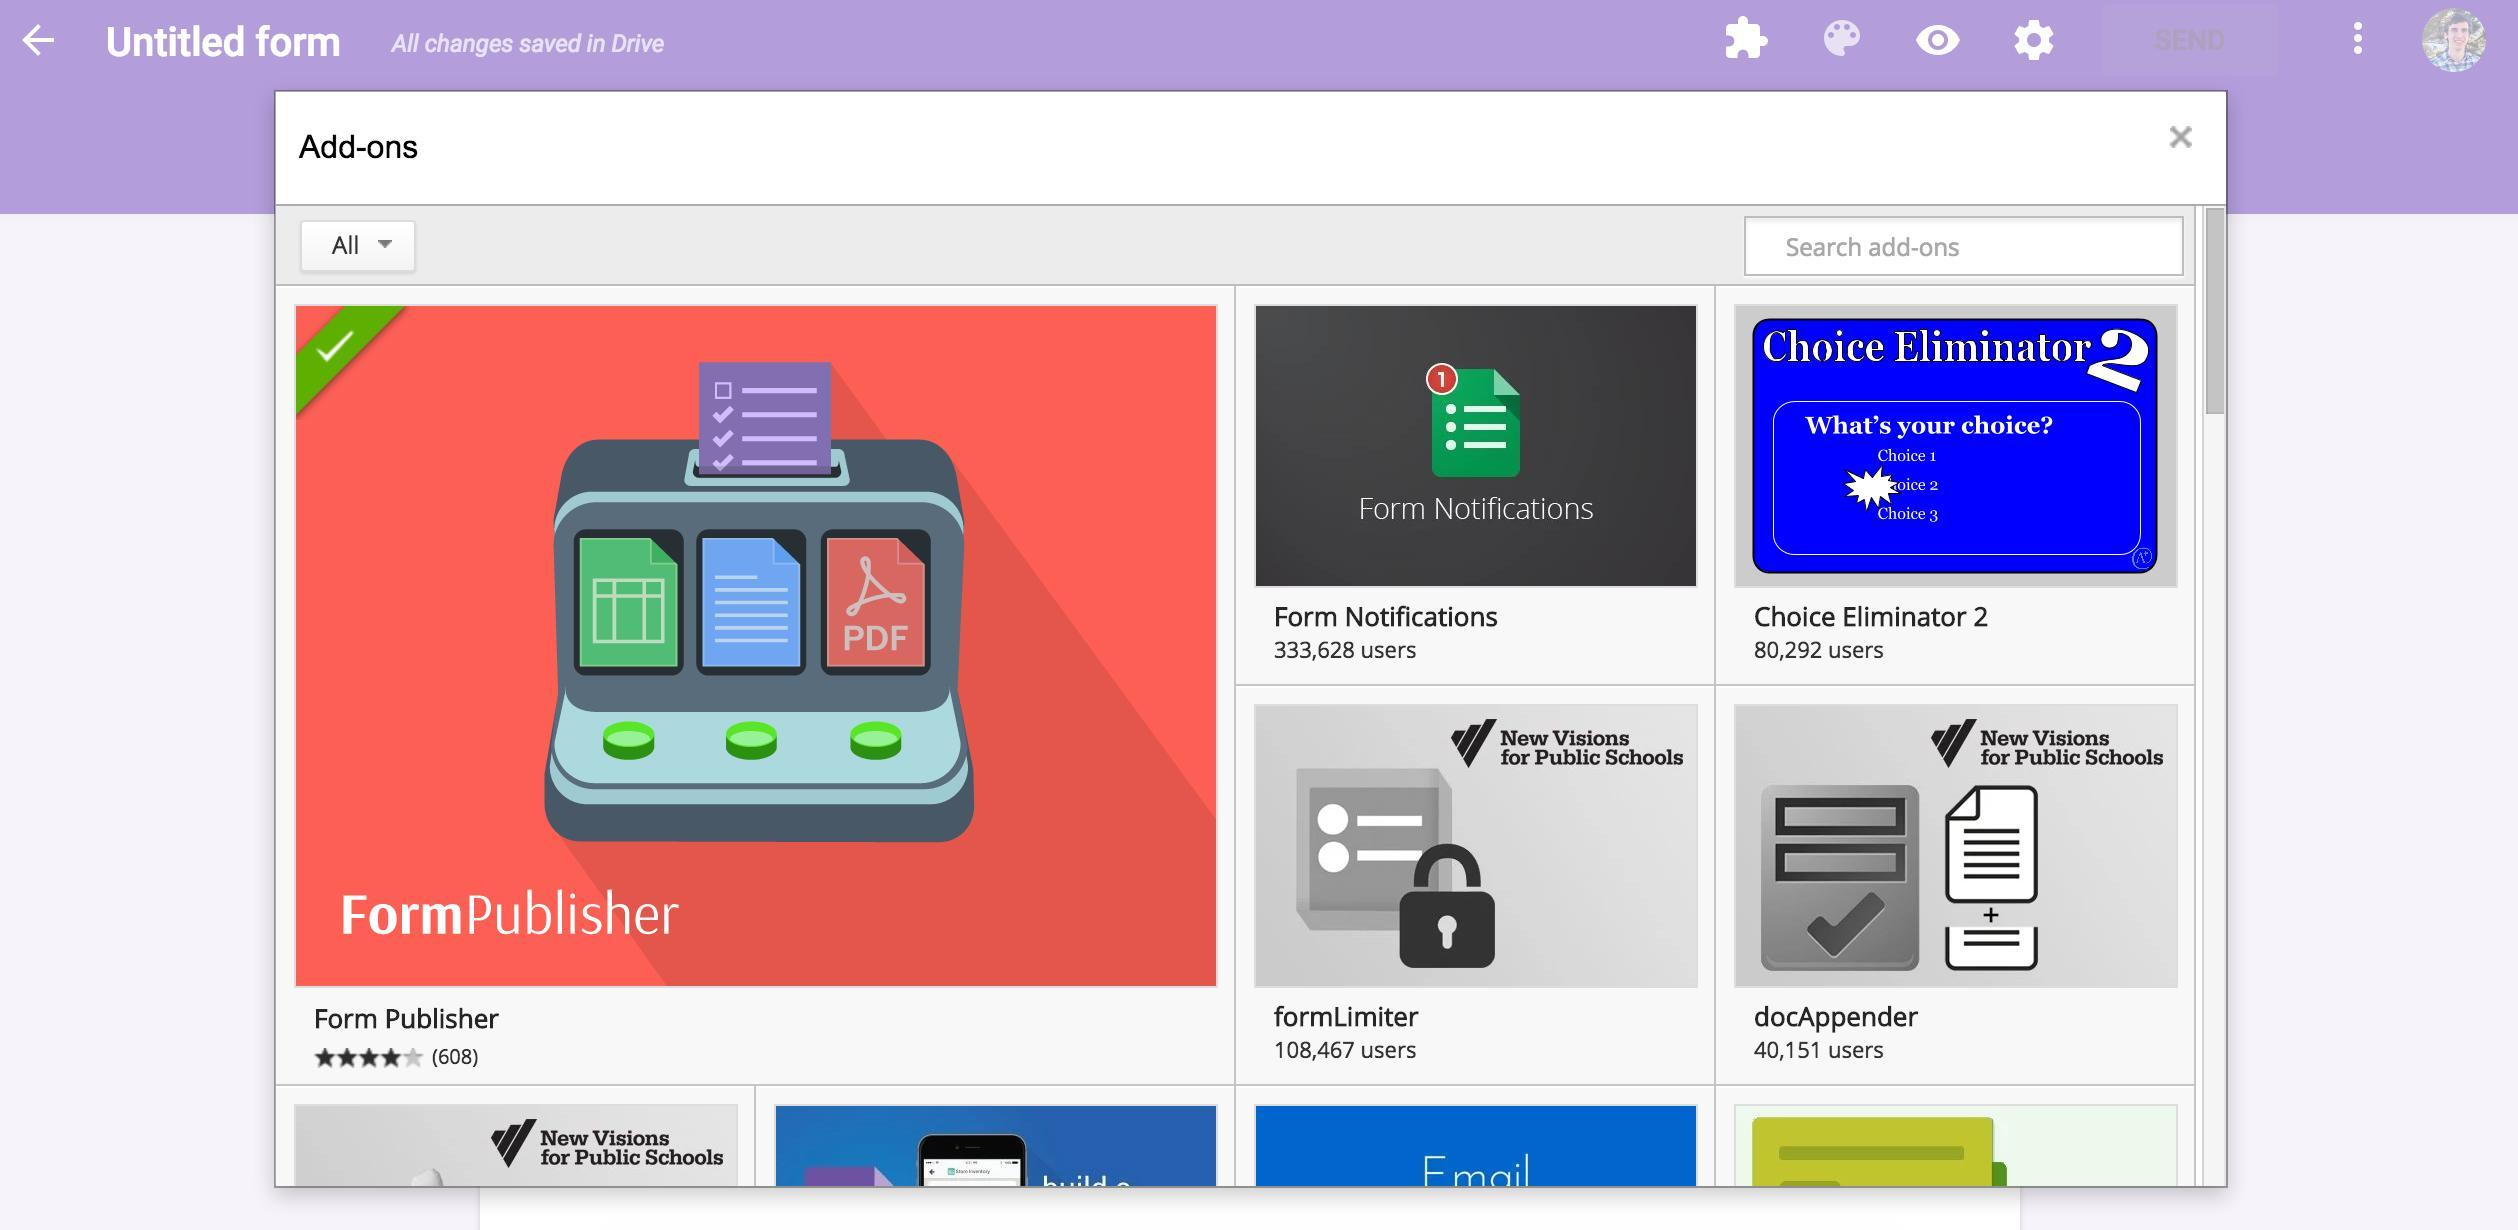dropdown: (299, 218, 419, 271)
icon: (2007, 14, 2064, 67), (1721, 13, 1774, 64), (1819, 16, 1869, 67), (1913, 16, 1966, 63), (2341, 6, 2377, 67), (2166, 120, 2198, 154)
input: (1744, 217, 2186, 279)
